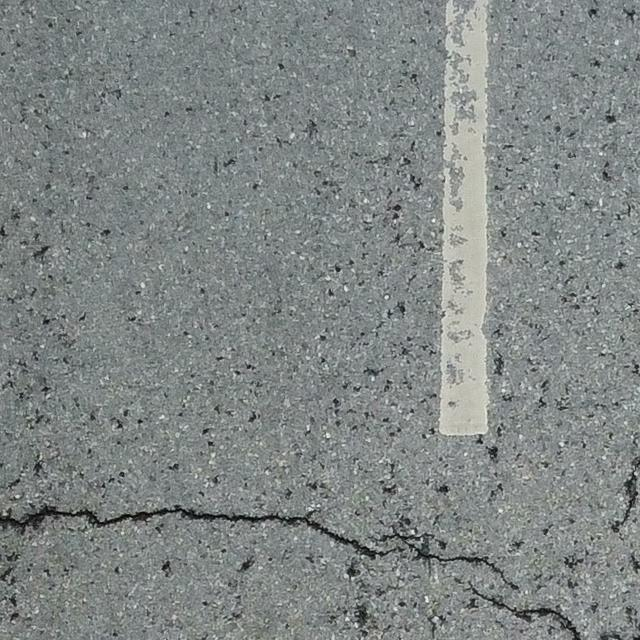TransverseCrack: (1, 509, 524, 590), (463, 582, 581, 640)
